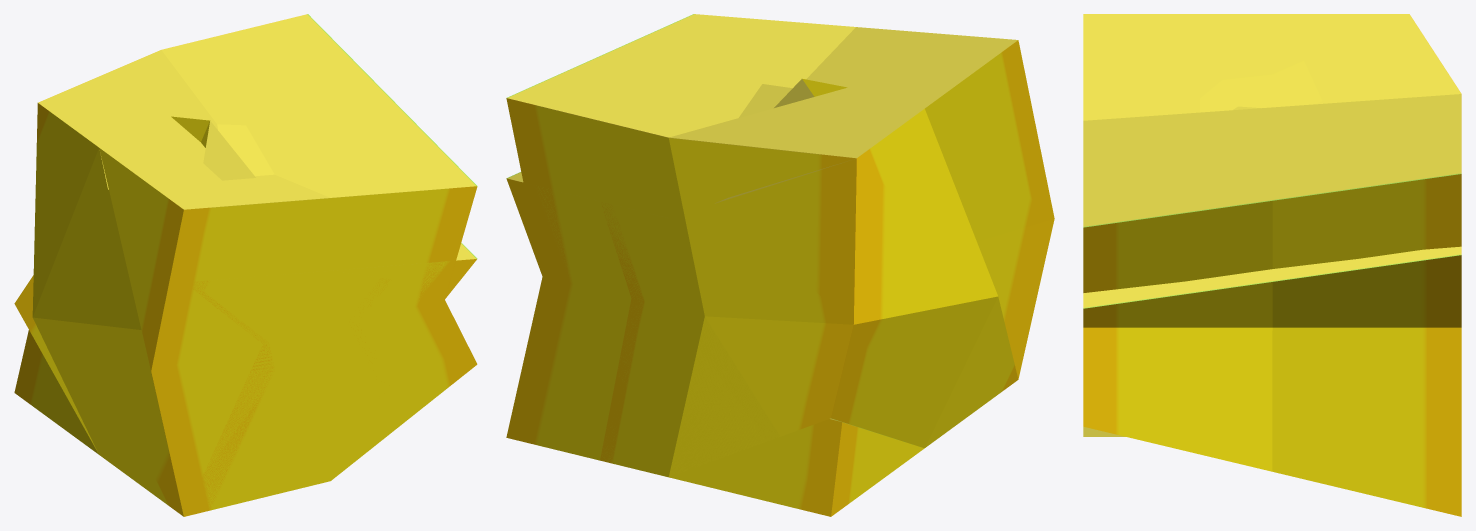
Rendered from copKutular.fbx.
3 views of the same model, side by side, from view 1: azimuth 30°, elevation 25°; view 2: azimuth 150°, elevation 25°; view 3: azimuth 270°, elevation 25° (orthographic). The views are drawn at different scales.
Visible parts, largest first — view 1: copKutu1, copKutu2, copKutu3; view 2: copKutu1, copKutu2, copKutu3; view 3: copKutu1, copKutu2, copKutu3.
Part boxes in pixels (x1,y1,x2,y2): copKutu1: [14, 14, 477, 516]; copKutu2: [14, 103, 477, 516]; copKutu3: [171, 116, 389, 479]; copKutu1: [506, 14, 1054, 516]; copKutu2: [506, 84, 1018, 476]; copKutu3: [600, 78, 847, 477]; copKutu1: [1083, 14, 1461, 516]; copKutu2: [1083, 106, 1461, 327]; copKutu3: [1200, 60, 1322, 112].
Size of the model in its own units: 245 by 200 by 200.
